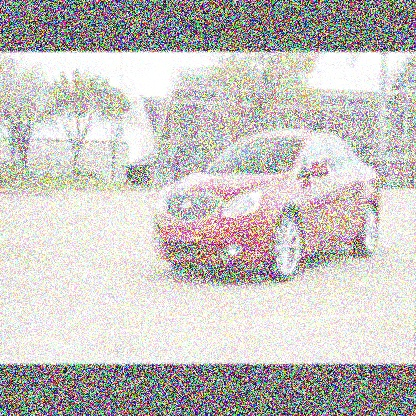Vehicle: (155, 129, 382, 282)
